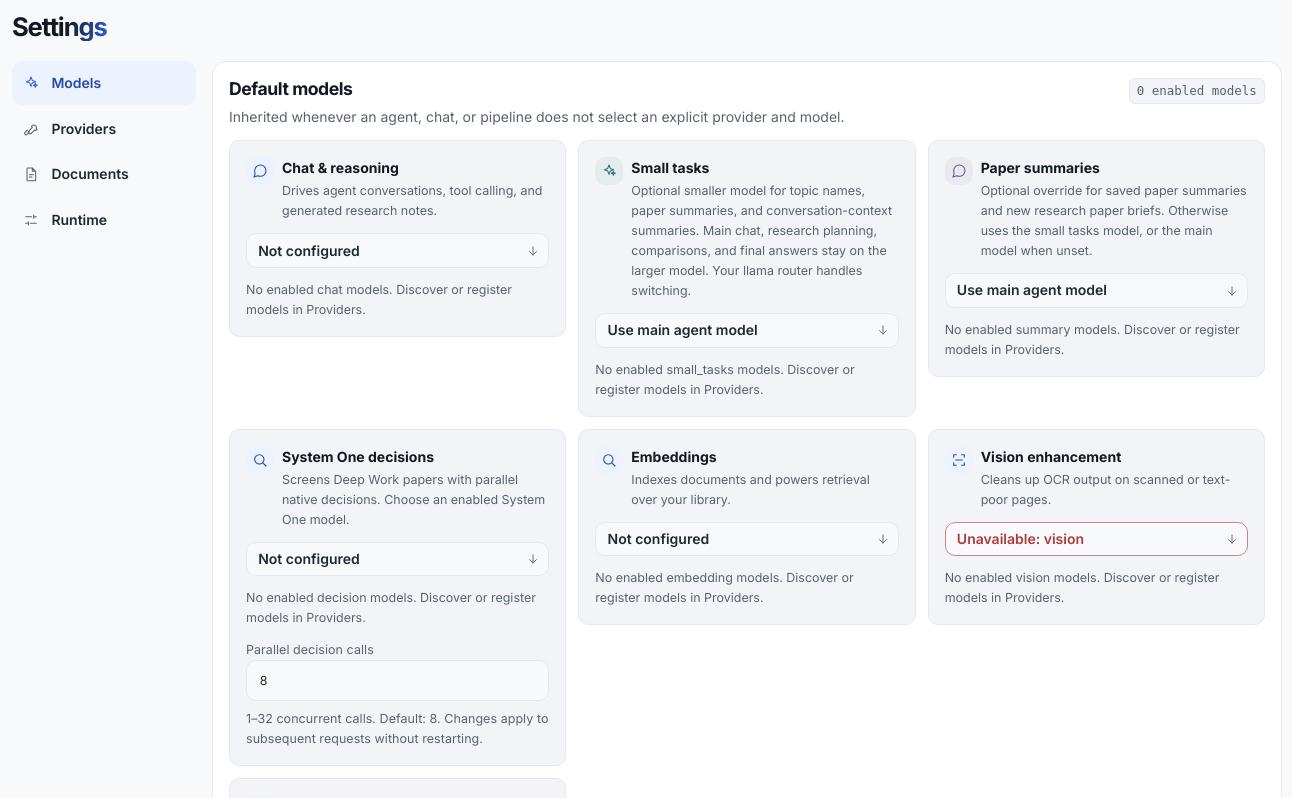
Test: settings load recovery and draft isolation › describes the actual restricted OCR fallback precedence rather than promising overrides
Click the button "Documents".
click(104, 174)  # box [12,153,196,196]
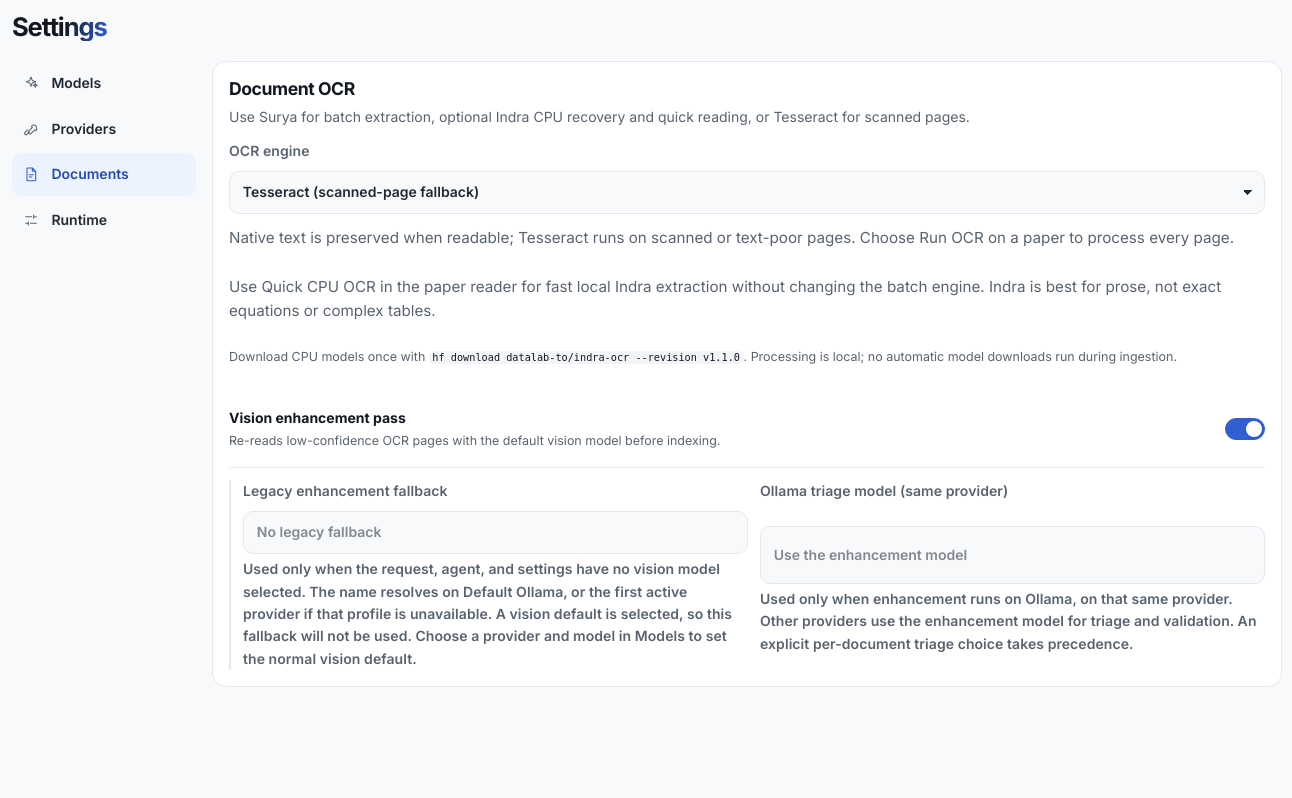
expect the text "Legacy enhancement fallback" is shown: met, box [243,482,448,499]
expect the text "fallback will not be used" is shown: met, box [243,605,732,644]
expect the text "Ollama triage model (same provider)" is shown: met, box [760,482,1008,499]
